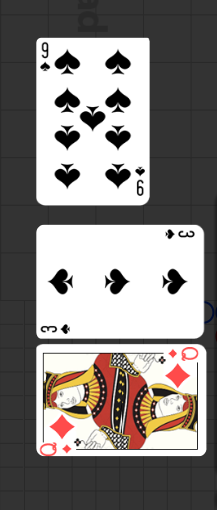9S: (134, 163, 148, 197), (40, 40, 52, 73)
QD: (36, 400, 83, 444), (157, 333, 203, 377)
